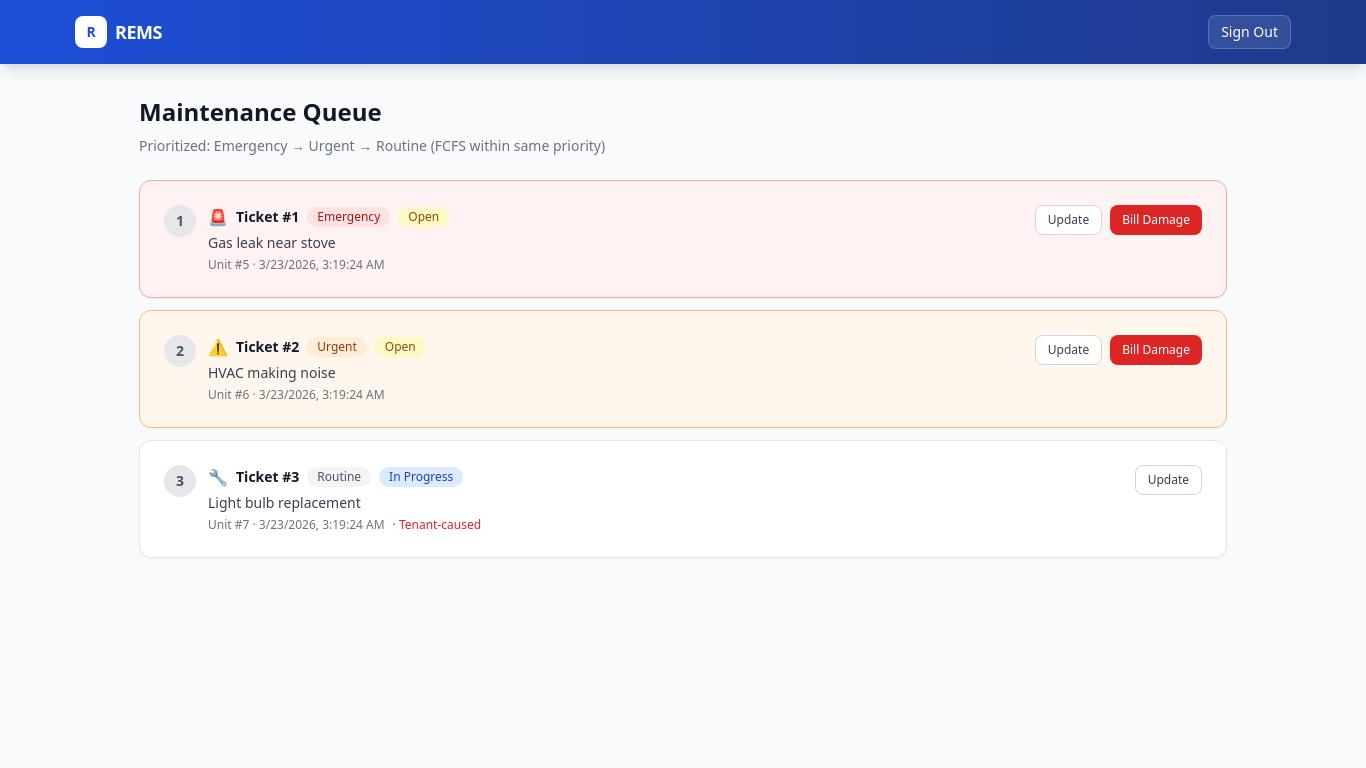
Test: TC-23: Maintenance Queue page (clerk) › shows success message after updating ticket status
Click the 1st button "Update" at (1068, 220), box [1035, 205, 1102, 235]
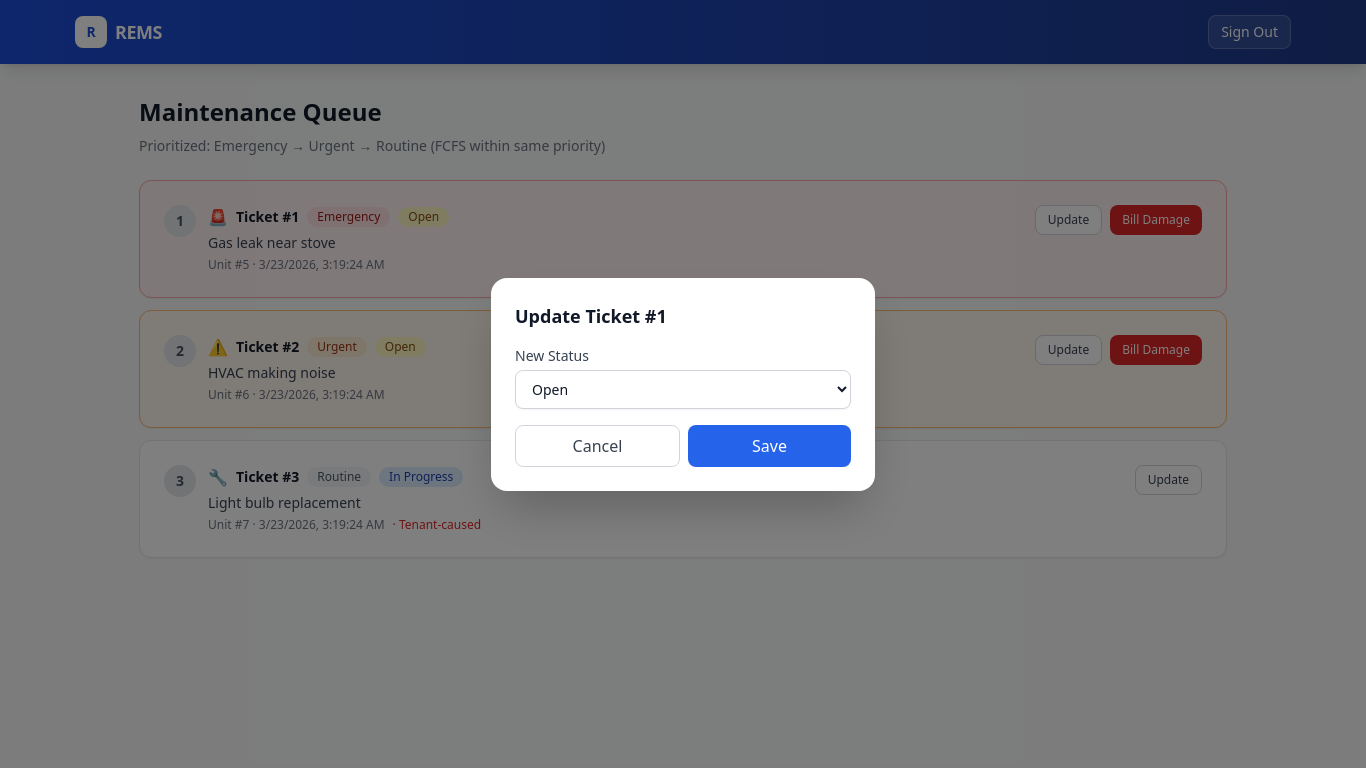
Result: the button "Save" is shown
Click the button "Save" at (770, 446), box [688, 424, 851, 466]
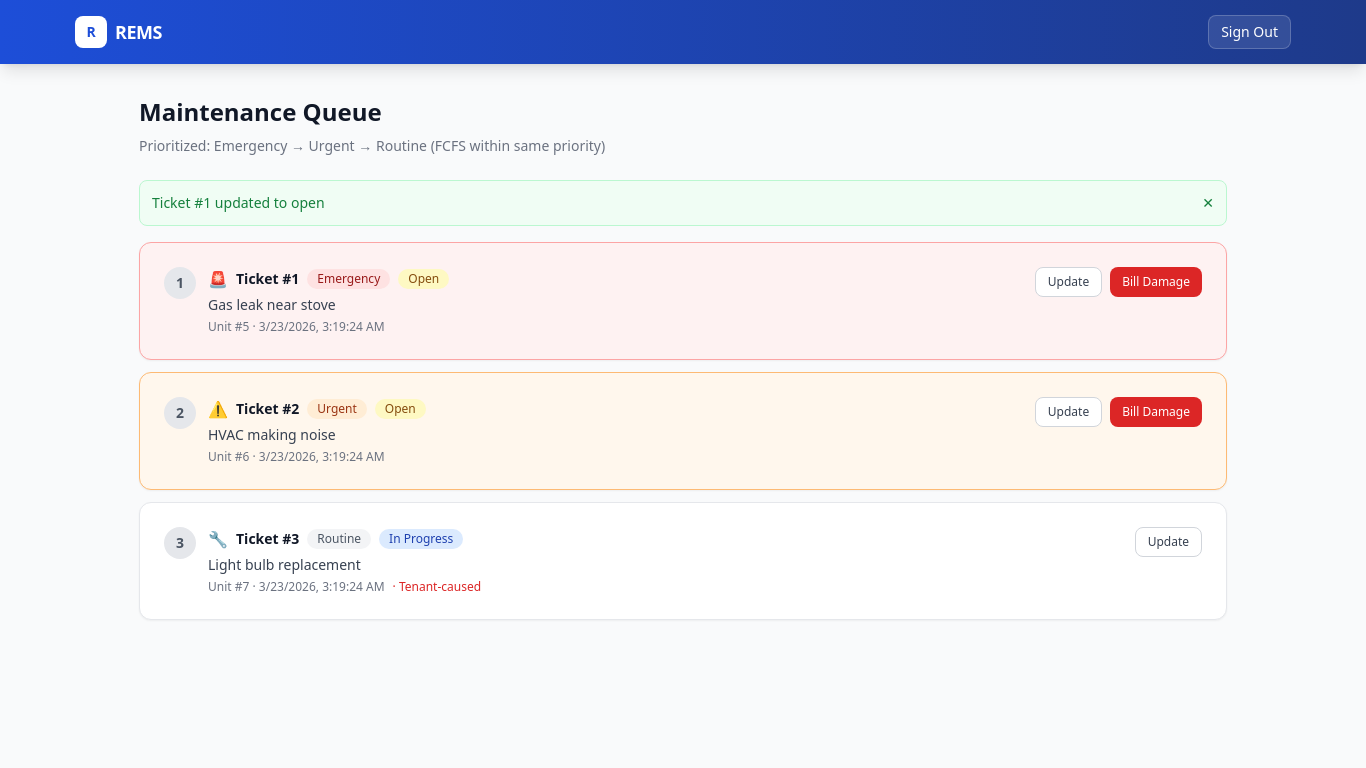
Result: the text "Ticket #1 updated to open ✕" is shown at [139, 180, 1227, 226]
